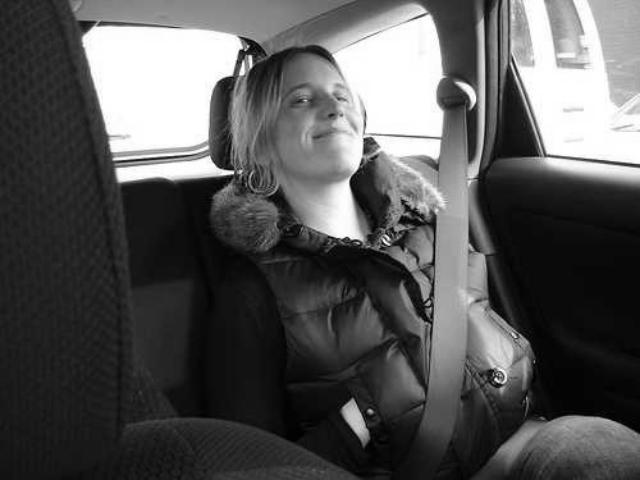SafeDriving: (288, 86, 316, 110)
Seatbelt: (411, 86, 475, 450)
